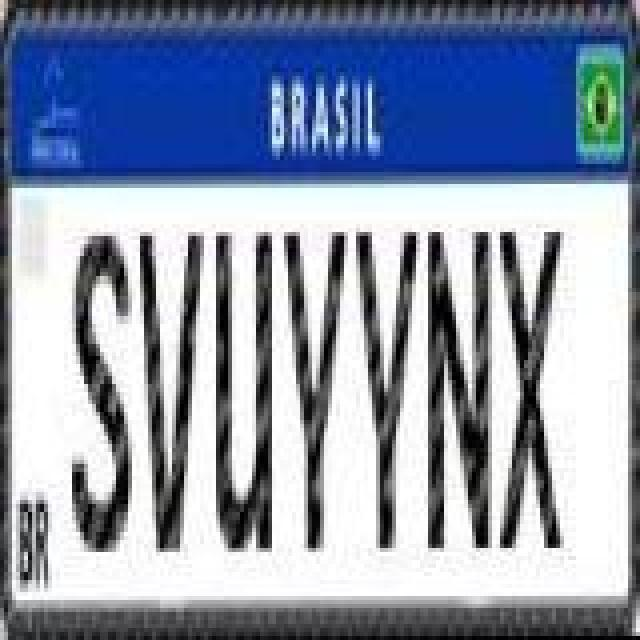N: (424, 228, 488, 552)
S: (72, 224, 136, 560)
U: (214, 228, 274, 552)
V: (138, 228, 206, 552)
X: (494, 226, 562, 550)
Y: (282, 222, 350, 558), (356, 228, 420, 552)
